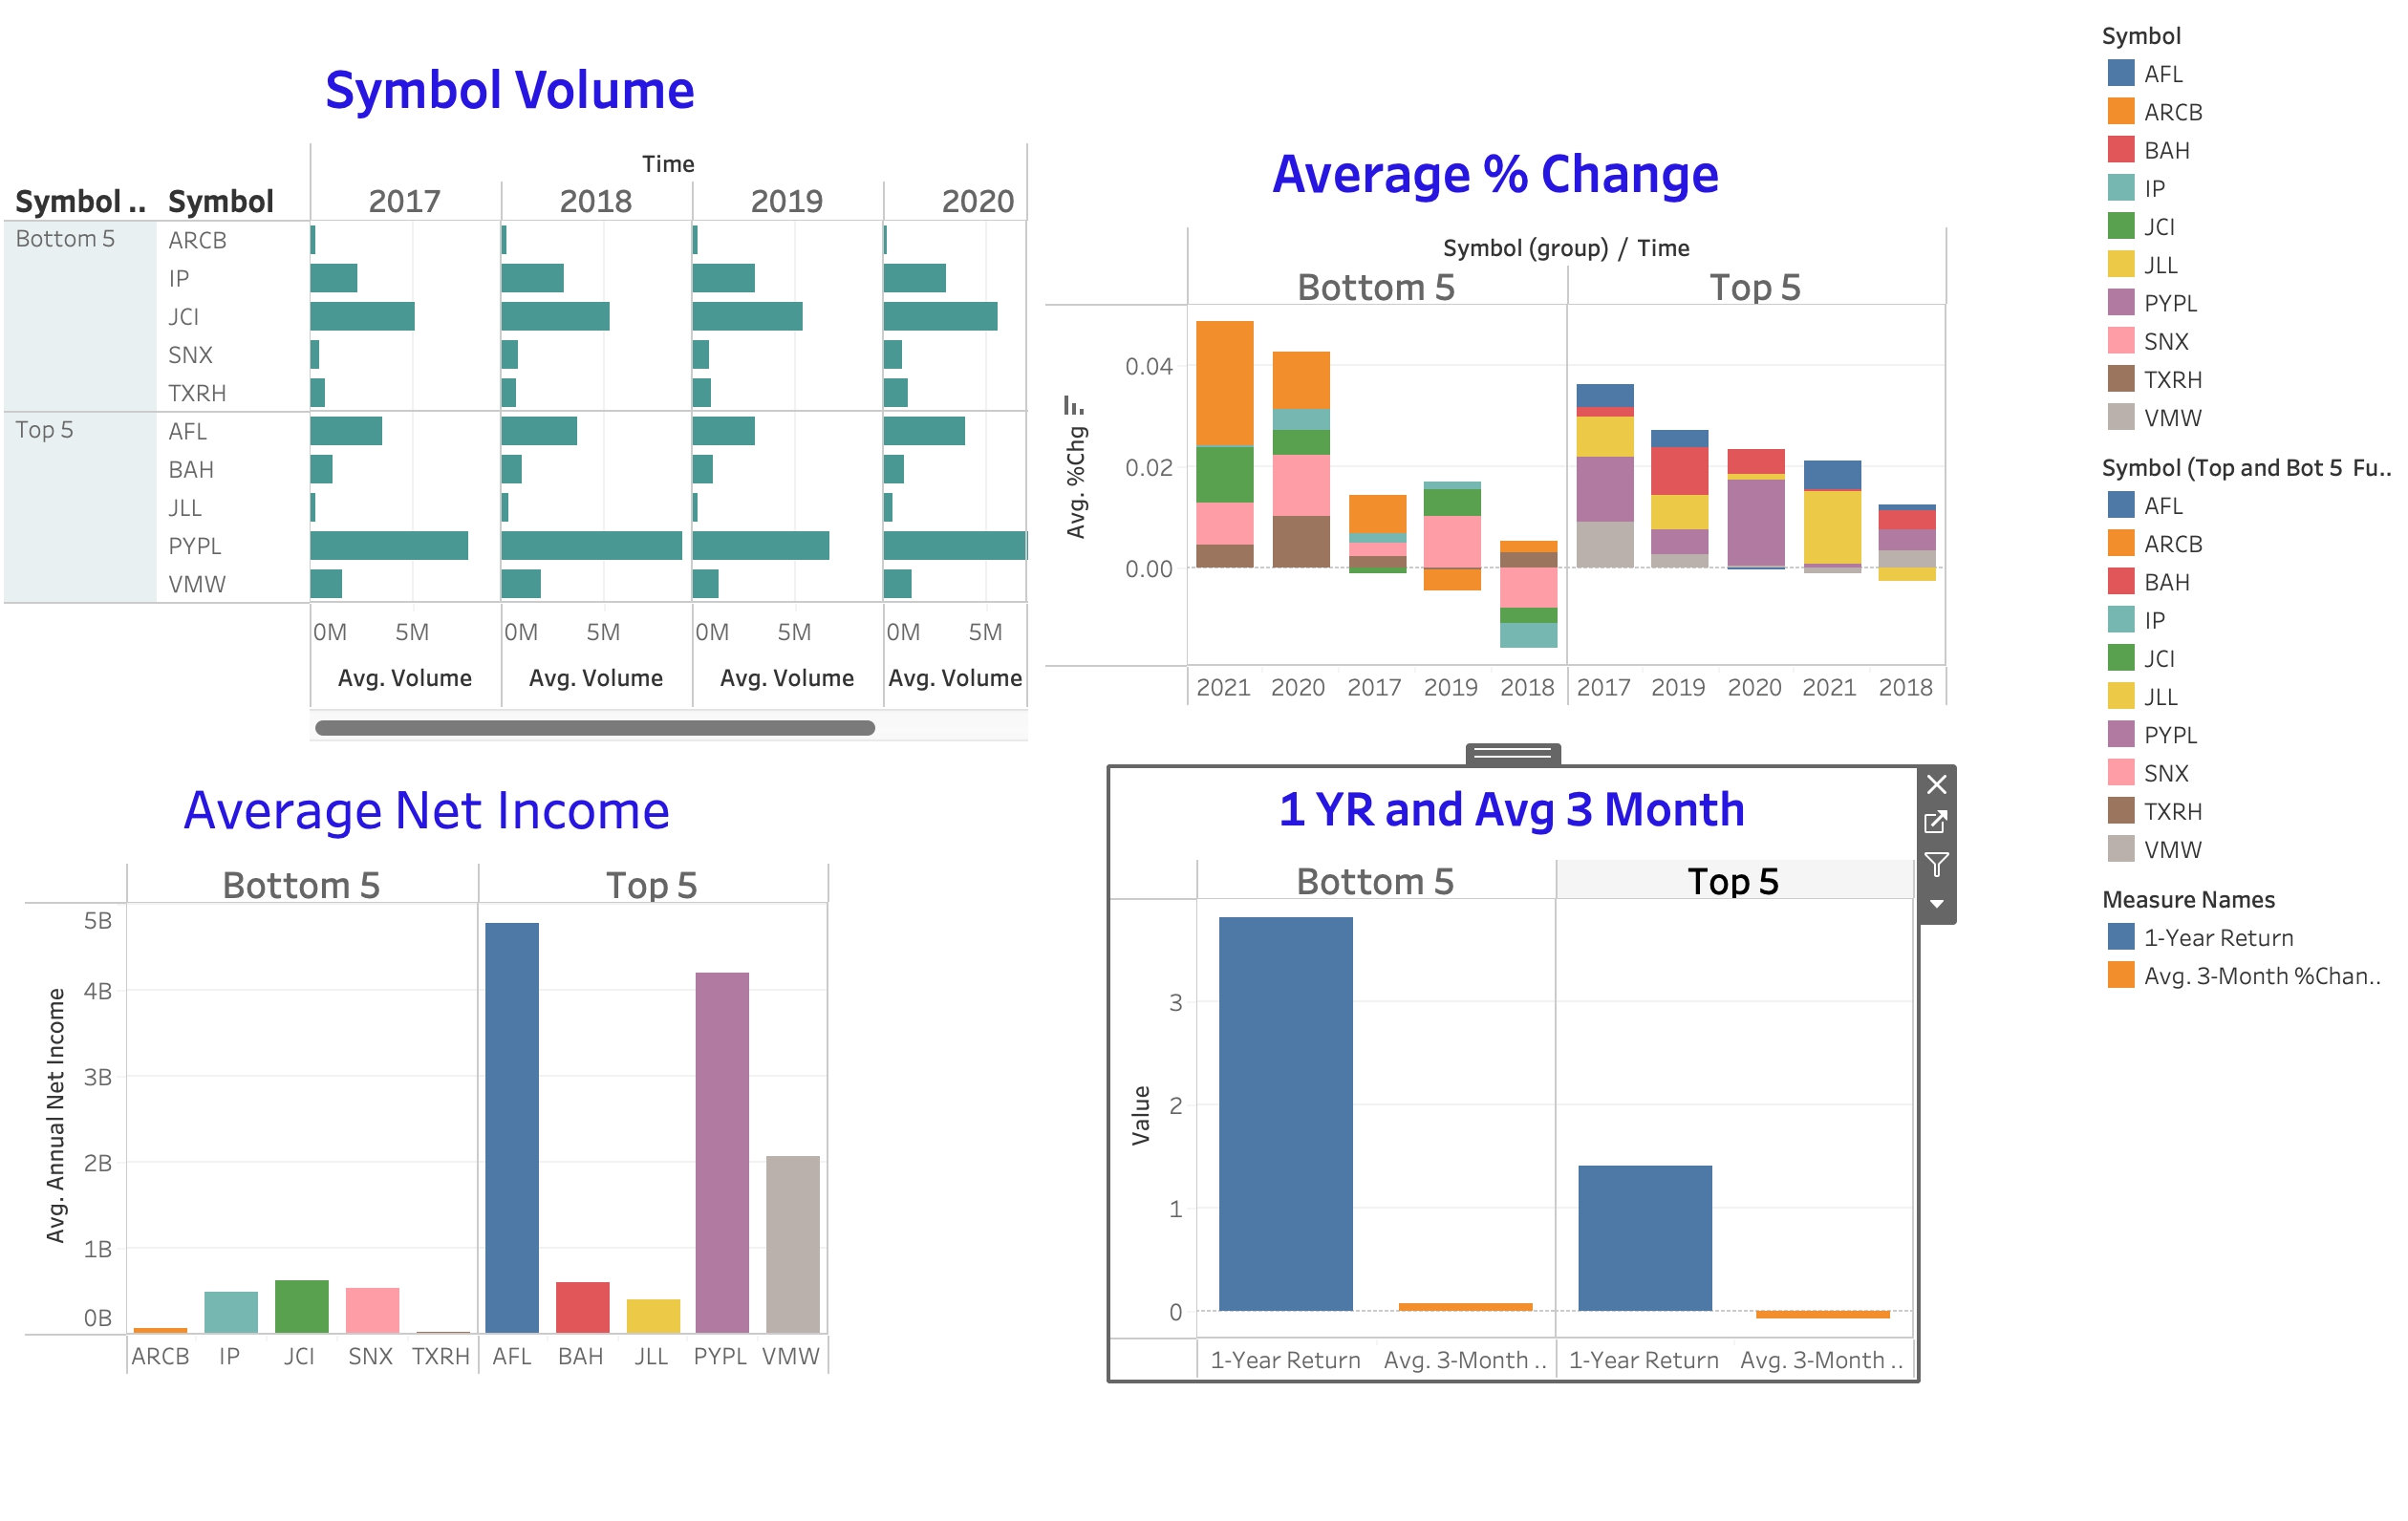

Layout of this report page (visuals, bound fields, positions):
{"tool":"tableau","page":{"name":"Board 1","canvas":[1000,1000],"units":"permille","ordinal":0},"visuals":[{"type":"legend","title":"Average % Change","param":"[federated.0ectr3r0hx9cr31fusygr10hauid].[none:Symbol:nk]","box":[893.7,8.3,101.2,235.4]},{"type":"worksheet","title":"Symbol Volume ","mark":"Automatic","rows":["Symbol"],"cols":["Time","Volume"],"box":[1.9,26,423.8,402.1]},{"type":"worksheet","title":"Average % Change","mark":"Automatic","rows":["%Chg"],"cols":["Time"],"box":[432.6,71.9,373.2,315.6]},{"type":"legend","title":"Average Net Income","param":"[federated.0ectr3r0hx9cr31fusygr10hauid].[none:Symbol (Top and Bot 5  Fundamenta","box":[893.7,243.7,101.2,235.4]},{"type":"worksheet","title":"Average Net Income","mark":"Automatic","rows":["Annual Net Income"],"cols":["Symbol (Top and Bot 5  Fundamentals Comparison.csv)"],"box":[10.1,418.8,333.3,333.3]},{"type":"worksheet","title":"1 YR and Avg 3 Month","mark":"Automatic","box":[459.8,420.8,333.3,333.3]},{"type":"legend","title":"1 YR and Avg 3 Month","param":"[federated.0ectr3r0hx9cr31fusygr10hauid].[:Measure Names]","box":[893.7,479.2,101.2,68.8]}]}

Visuals, with their boxes on the dashboard's canvas, which has no fixed pixel size, in thousandths of its width and height (x1, y1, x2, y2). These are canvas units, not pixel positions in the 2408x1521 screenshot, which may show the page scaled, cropped or inside an application window:
"Average % Change" legend: bbox=[894, 8, 995, 244]
"Symbol Volume " worksheet: bbox=[2, 26, 426, 428]
"Average % Change" worksheet: bbox=[433, 72, 806, 388]
"Average Net Income" legend: bbox=[894, 244, 995, 479]
"Average Net Income" worksheet: bbox=[10, 419, 343, 752]
"1 YR and Avg 3 Month" worksheet: bbox=[460, 421, 793, 754]
"1 YR and Avg 3 Month" legend: bbox=[894, 479, 995, 548]
